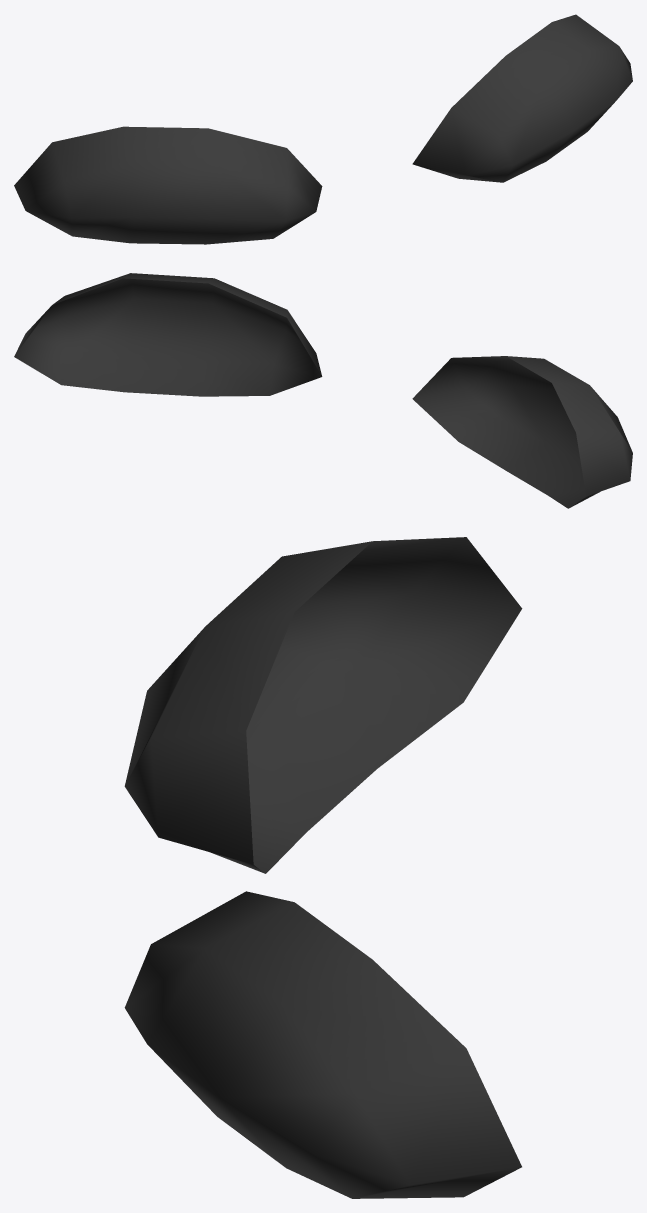
The model's file is Eyebrow_21.fbx.
3 views of the same model, one above another, from view 1: azimuth 30°, elevation 25°; view 2: azimuth 150°, elevation 25°; view 3: azimuth 270°, elevation 25° (orthographic). The views are drawn at different scales.
Parts seen in each view (by area): view 1: Eyebrow_21; view 2: Eyebrow_21; view 3: Eyebrow_21.
Boxes of the visible parts, <box> form: Eyebrow_21: <box>14,14,632,244</box>; Eyebrow_21: <box>14,273,632,508</box>; Eyebrow_21: <box>124,537,522,1198</box>.
Bounding box in the file's own units: 39.12 × 7.12 × 11.14.
